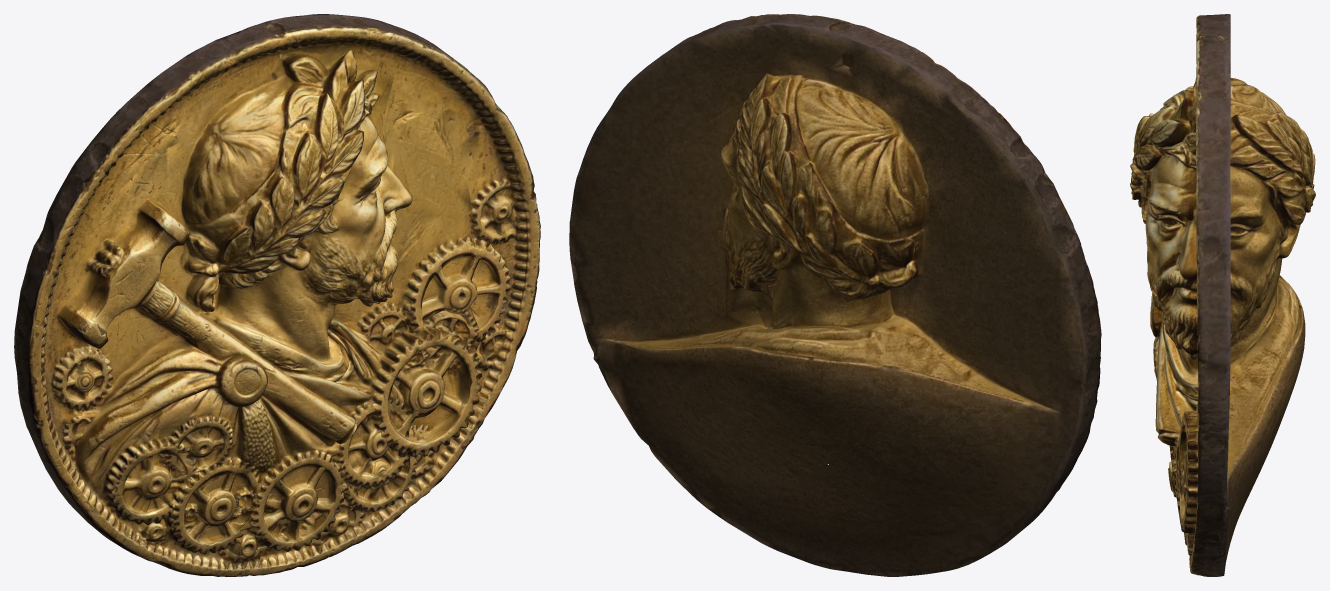
File: hero-builder.glb
The picture shows the model from 3 angles, left to right: view 1: azimuth 30°, elevation 25°; view 2: azimuth 150°, elevation 25°; view 3: azimuth 270°, elevation 25°; orthographic projection. The views are drawn at different scales.
Parts seen in each view (by area): view 1: tripo_node_43df23f5-8dbc-451f-a690-c2df9b102add; view 2: tripo_node_43df23f5-8dbc-451f-a690-c2df9b102add; view 3: tripo_node_43df23f5-8dbc-451f-a690-c2df9b102add.
Part boxes in pixels (x1,y1,x2,y2): tripo_node_43df23f5-8dbc-451f-a690-c2df9b102add: [14, 14, 540, 576]; tripo_node_43df23f5-8dbc-451f-a690-c2df9b102add: [569, 14, 1101, 576]; tripo_node_43df23f5-8dbc-451f-a690-c2df9b102add: [1130, 14, 1315, 576].
Size of the model in its own units: 0.9994 by 0.9989 by 0.33.
1 material, 1 textured.
